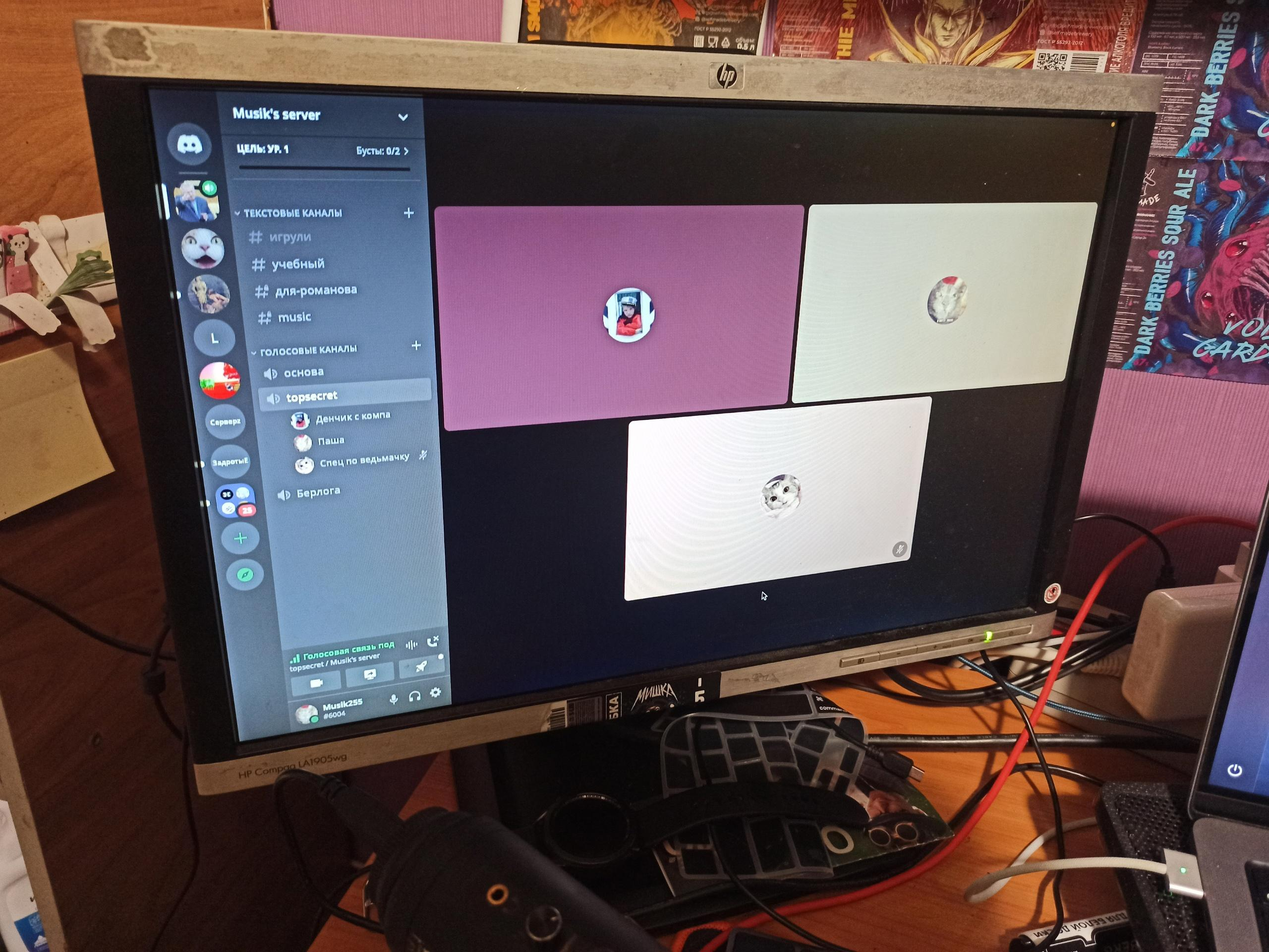monitor: (69, 12, 1163, 800)
